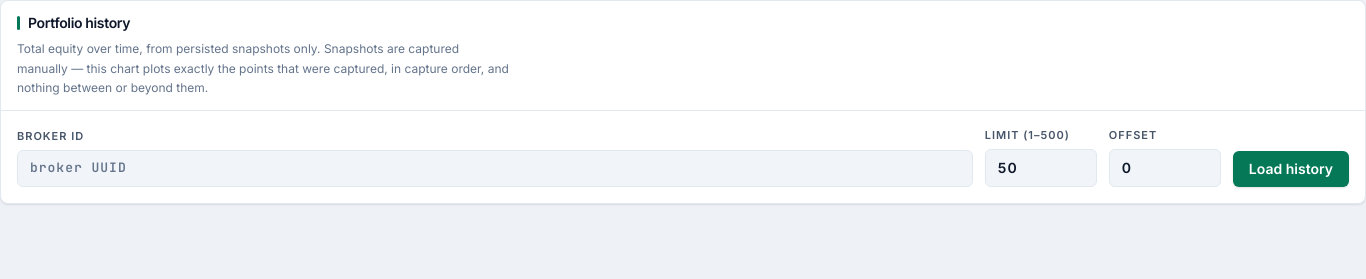
PortfolioHistoryChart › surfaces the backend's DATA_UNAVAILABLE sentinel verbatim
Type "b-1" into the field labelled "Broker ID" at {"x": 495, "y": 169}, box [17,150,973,187]
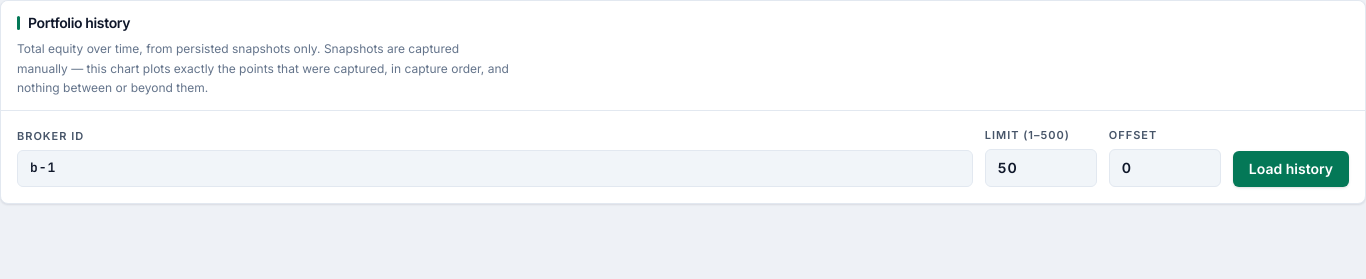
Click the button "Load history" at {"x": 1291, "y": 169}, box [1233,151,1349,187]
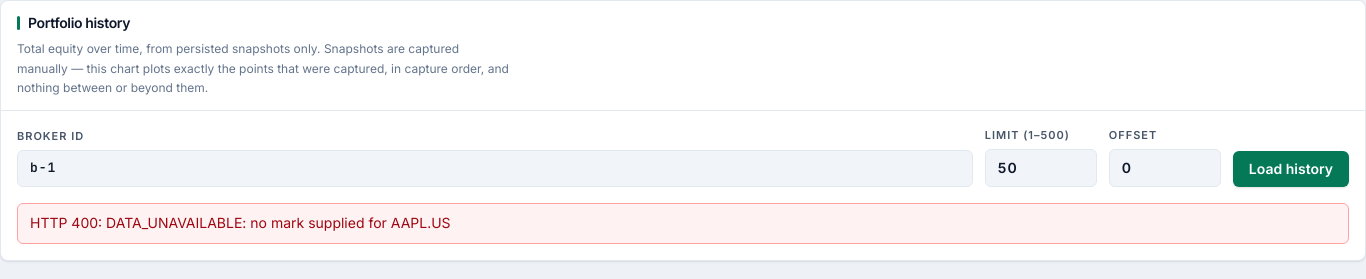
Expected: the text "HTTP 400: DATA_UNAVAILABLE: no mark supplied for AAPL.US" is shown, [17,203,1349,244]
